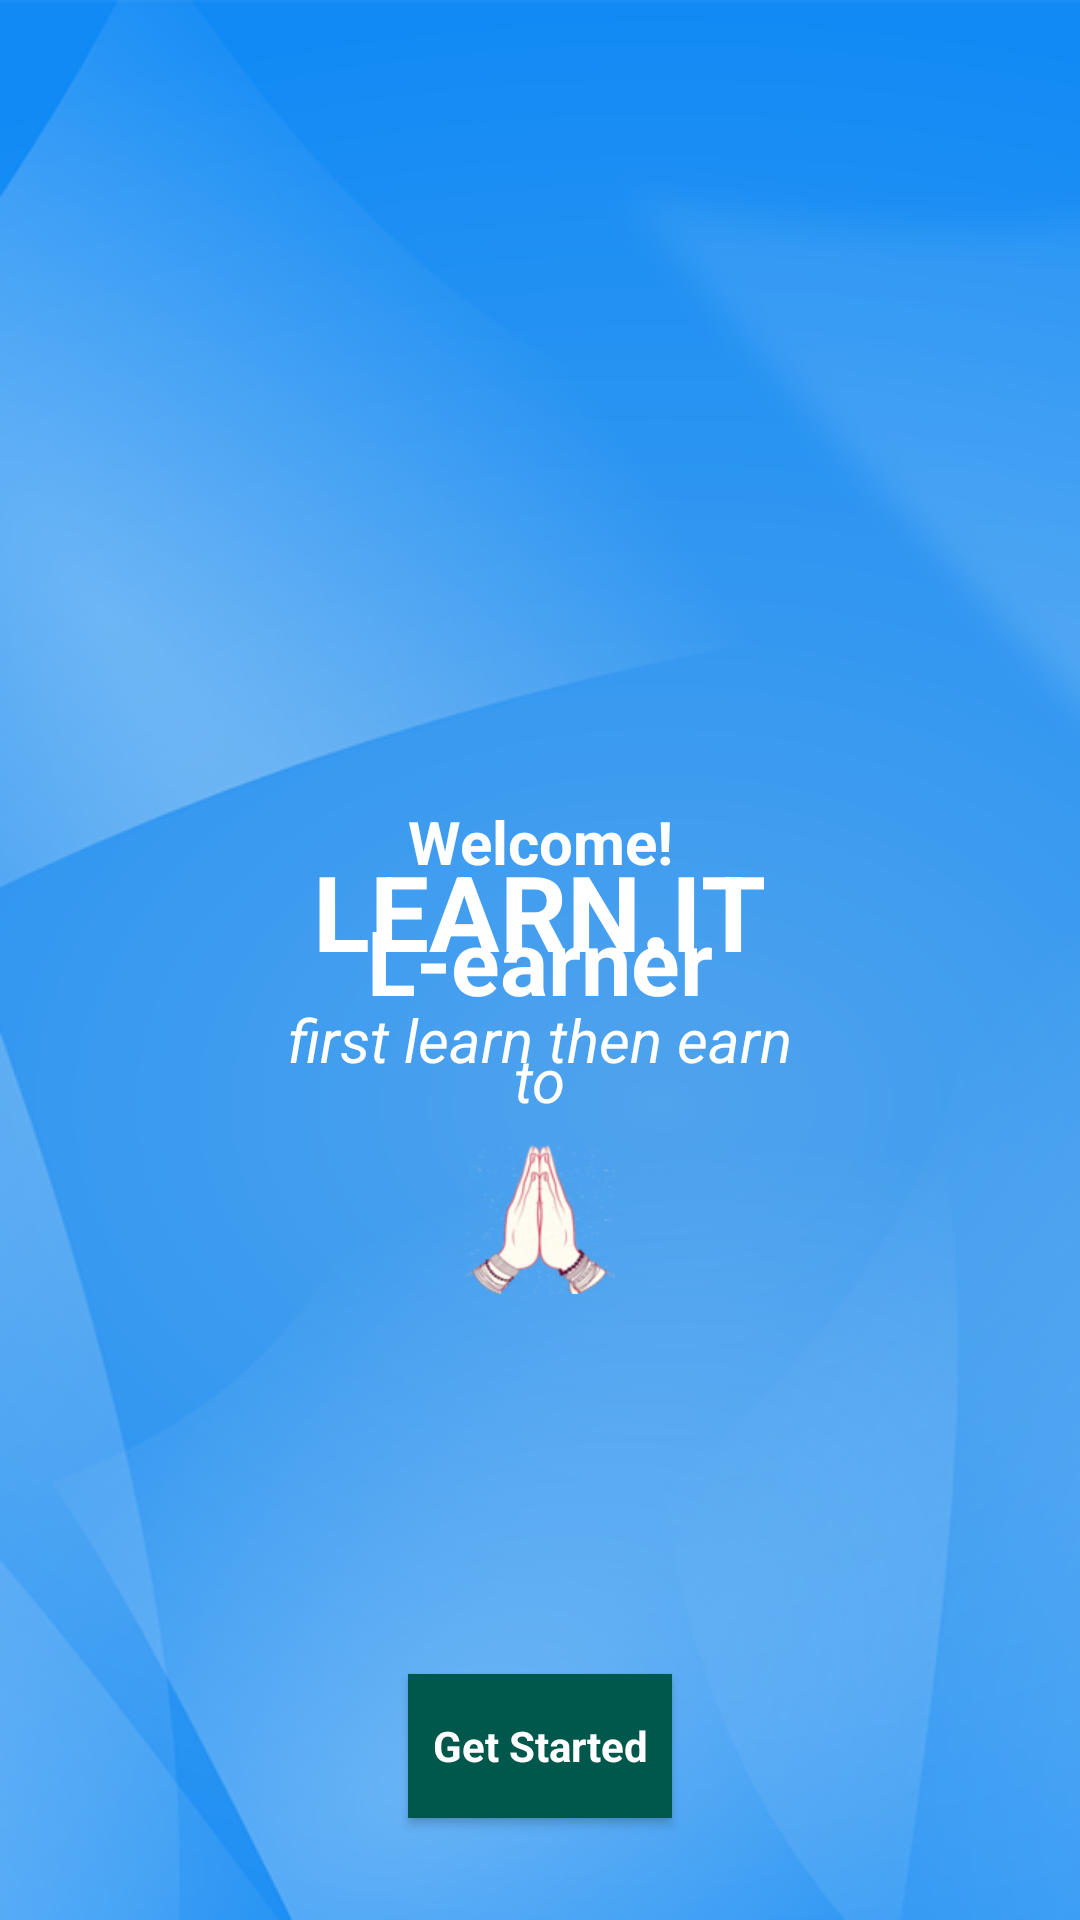

Icon click points for this 1080px x 1920px phone screenshot, format (x,y):
namaste: (540,1219)
